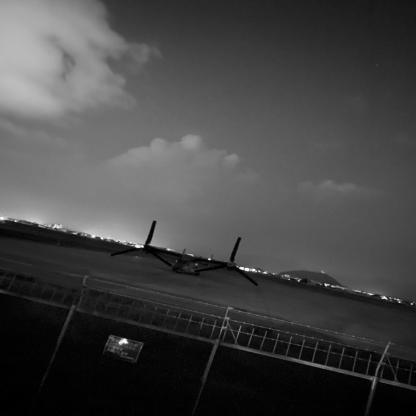V22: (111, 221, 260, 288)
